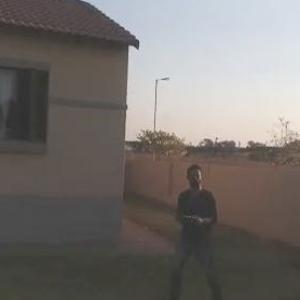follow: (159, 157, 222, 299)
